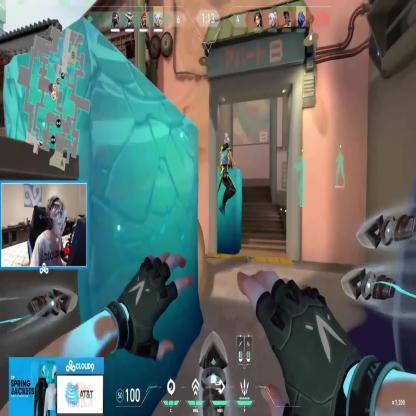enemy: (218, 131, 236, 216)
enemy_head: (224, 133, 230, 148)
